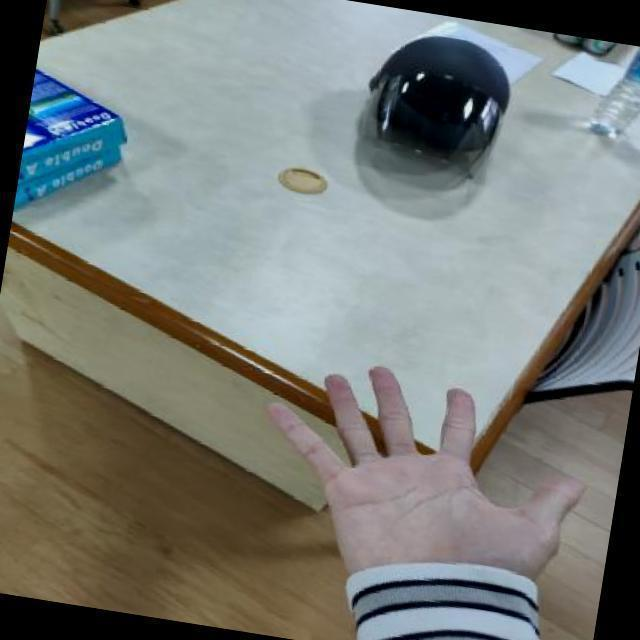hand: (223, 334, 618, 639)
